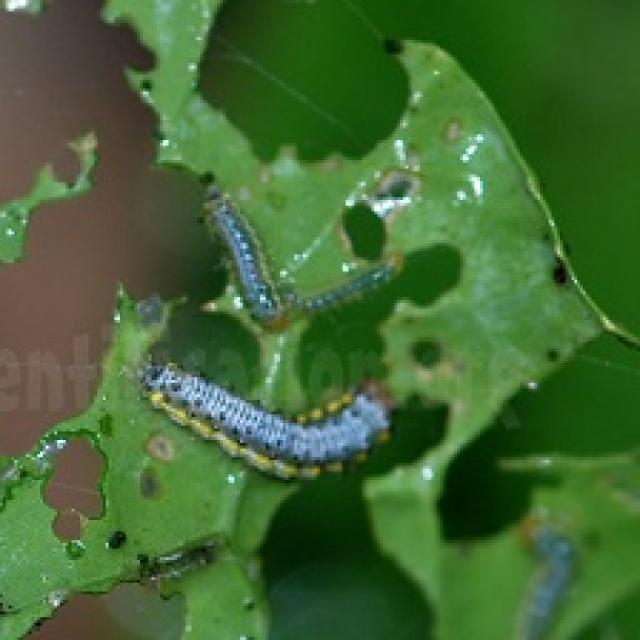Cabbage-worm: (140, 347, 411, 485), (194, 179, 290, 335), (506, 531, 611, 640), (307, 263, 405, 341)
